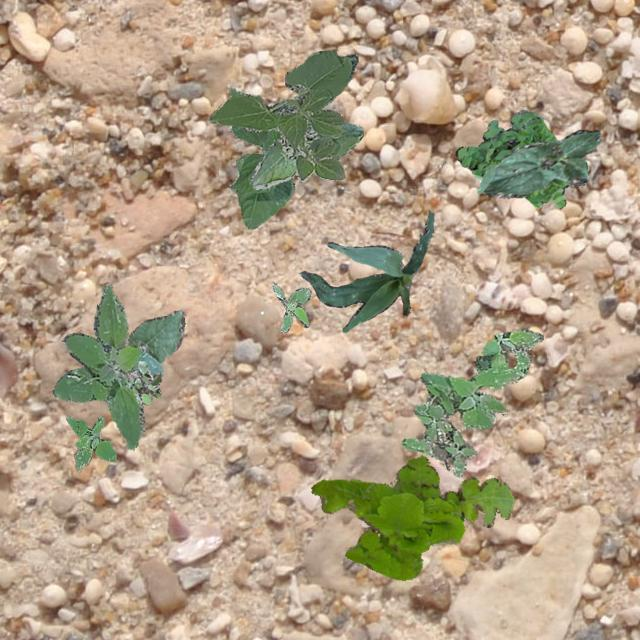crop: (208, 50, 362, 188), (298, 210, 432, 332), (228, 88, 294, 228), (476, 128, 600, 198), (126, 308, 184, 364)
weed: (311, 454, 514, 580), (400, 328, 542, 477), (52, 284, 162, 448), (454, 109, 572, 208), (64, 414, 116, 470), (270, 282, 310, 332), (118, 359, 160, 404)
